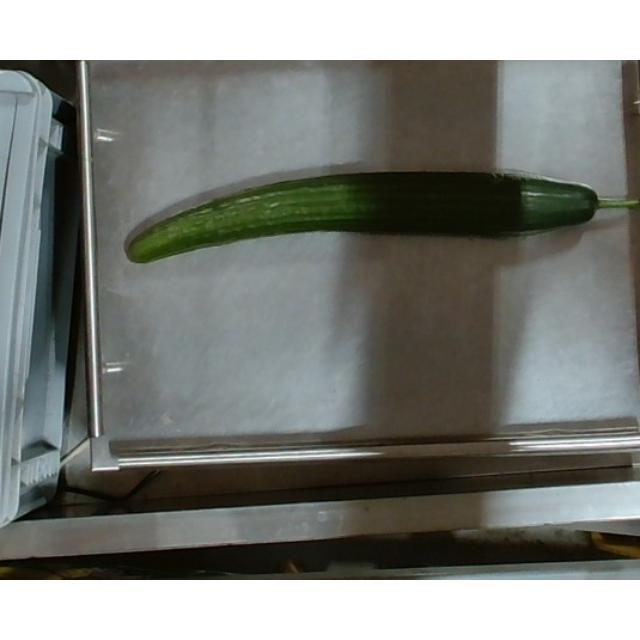cucumber: (128, 168, 640, 268)
